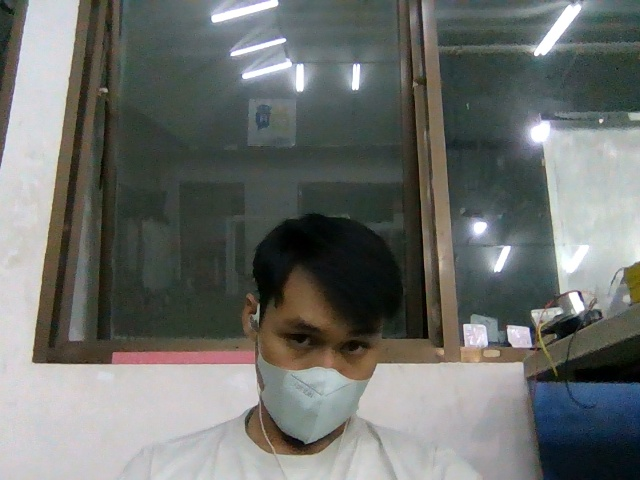mask_on: (255, 355, 370, 446)
